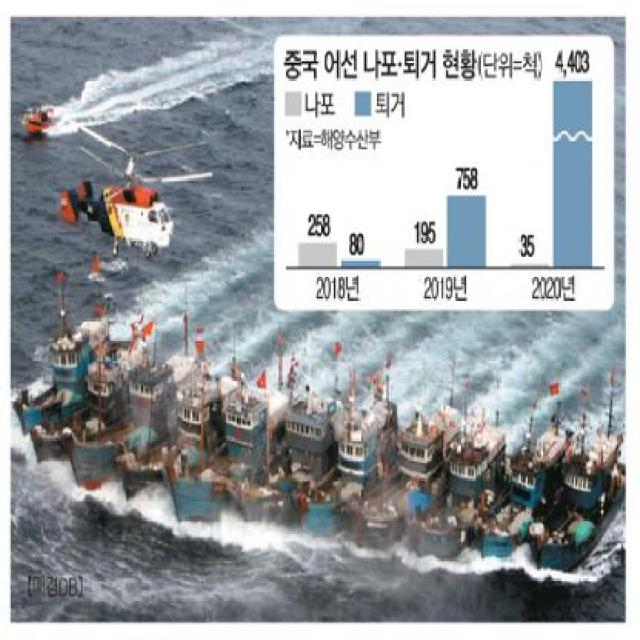fish-b: (115, 370, 224, 567), (236, 387, 342, 561), (530, 403, 630, 585), (66, 342, 146, 563), (166, 388, 270, 557), (348, 403, 449, 565), (306, 396, 403, 563), (475, 409, 569, 575), (410, 419, 509, 570), (16, 310, 114, 433)
